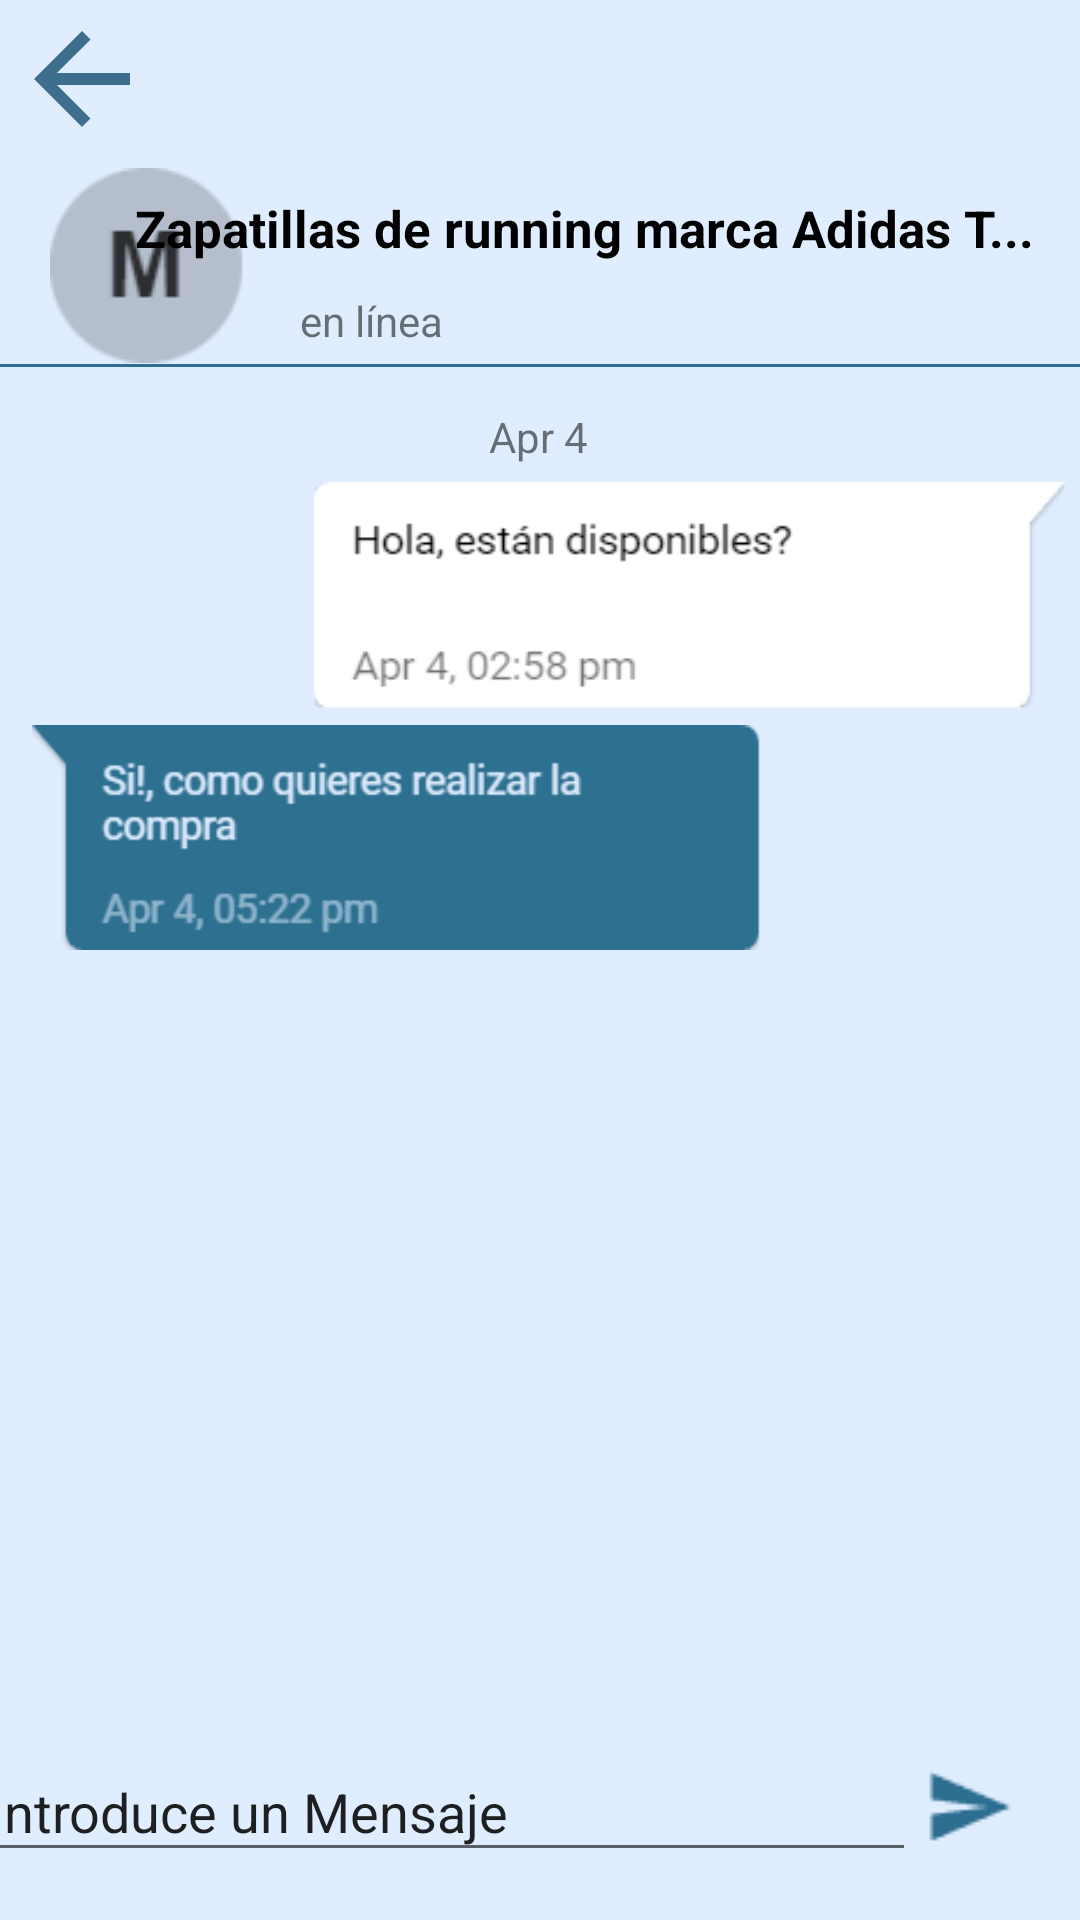

Icon bounding boxes for this 1080x1920 phone screenshot, format (x1, y1, x2, y2):
arrow back: (34, 31, 130, 127)
avion: (929, 1773, 1009, 1841)
perfil: (50, 168, 248, 363)
